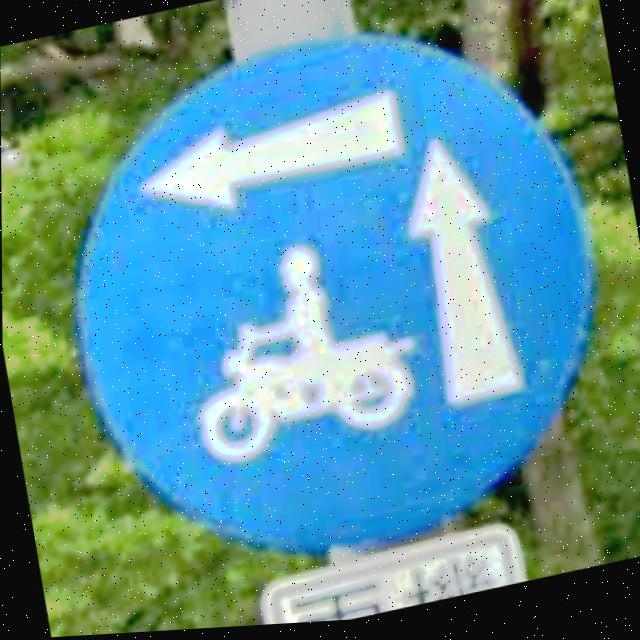twostageturn: (77, 40, 593, 560)
